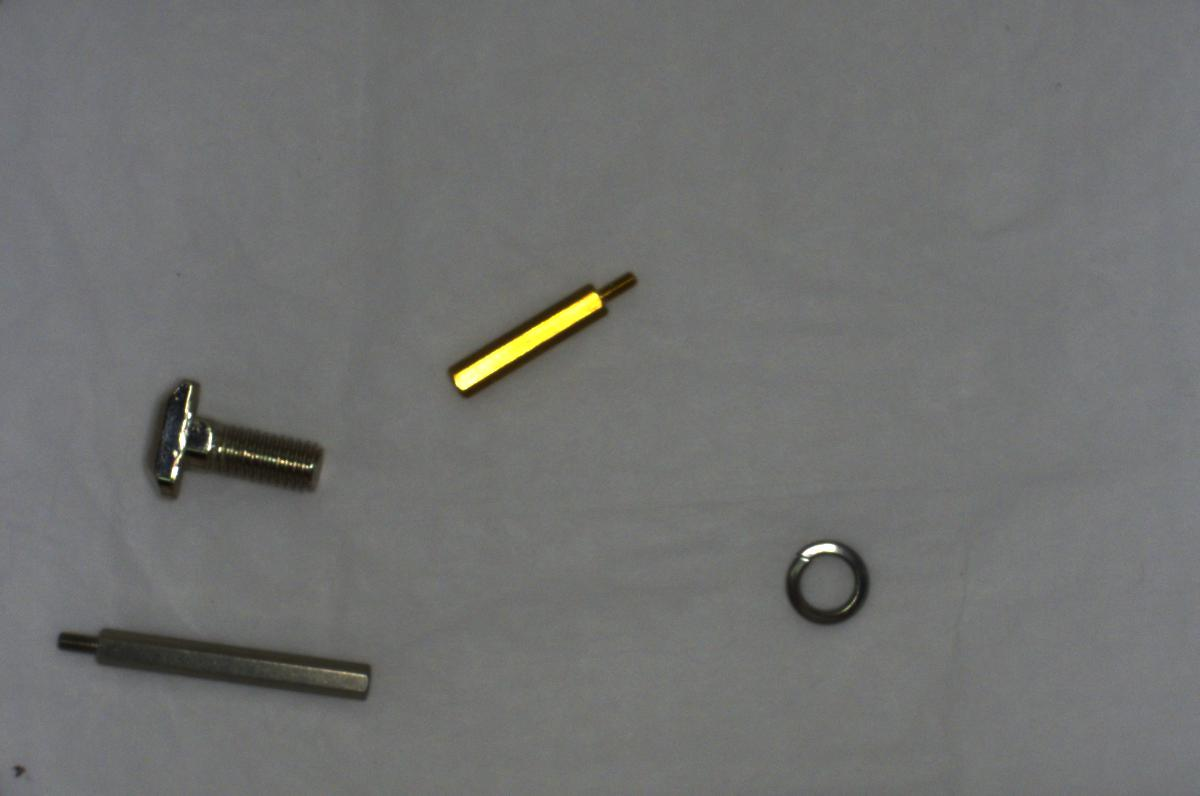Hexagon pillar: (442, 258, 641, 405)
Hexagonal steel column: (50, 618, 379, 708)
Spring washer: (780, 536, 874, 627)
T-shaped screw: (142, 372, 326, 499)
